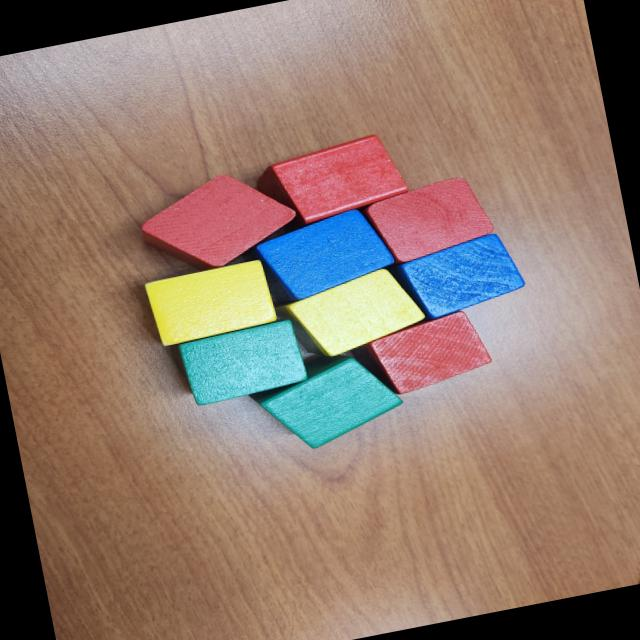blue: (248, 200, 402, 308), (384, 227, 531, 326)
green: (241, 338, 410, 462), (175, 314, 314, 408)
red: (133, 163, 305, 280), (263, 130, 412, 229), (354, 172, 498, 268), (358, 306, 496, 404)
yellow: (278, 260, 432, 366), (136, 256, 282, 351)
